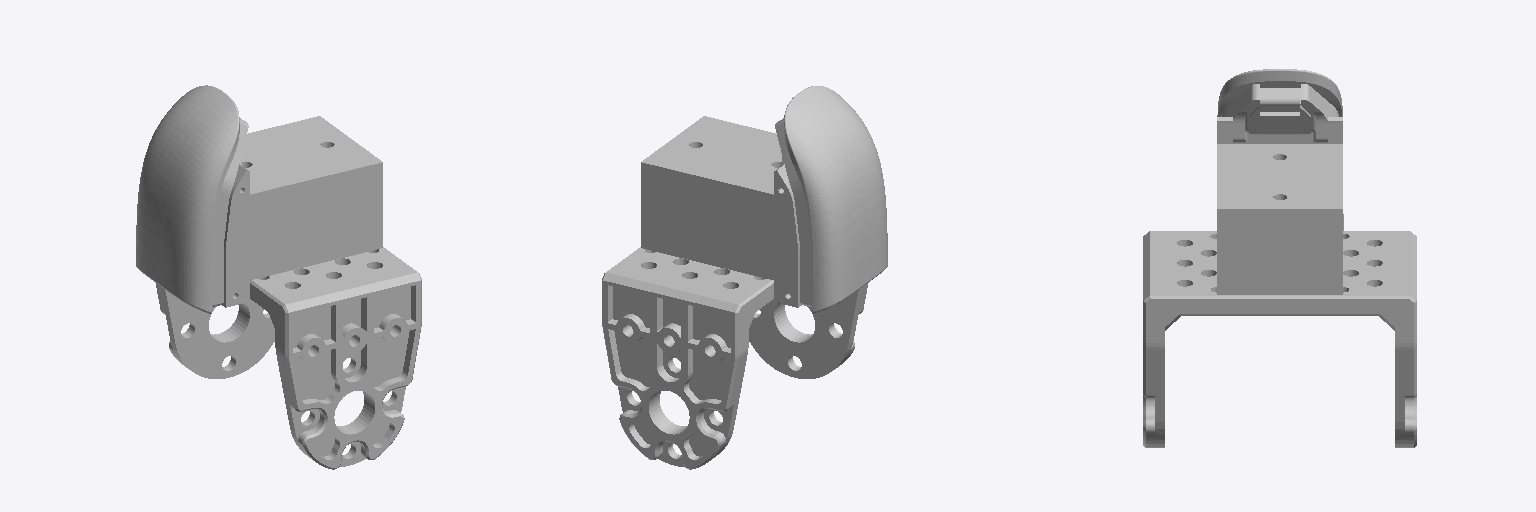
Rendered from fingertip_new_convex.obj.
3 views of the same model, side by side, from view 1: azimuth 30°, elevation 25°; view 2: azimuth 150°, elevation 25°; view 3: azimuth 270°, elevation 25° (orthographic).
Visible parts, largest first — view 1: zhijian_for_urdf; view 2: zhijian_for_urdf; view 3: zhijian_for_urdf.
Part boxes in pixels (x1,y1,x2,y2): zhijian_for_urdf: (136,85,421,469); zhijian_for_urdf: (602,86,887,469); zhijian_for_urdf: (1143,69,1416,447).
Bounding box in the file's own units: 0.0289 × 0.0478 × 0.0346.